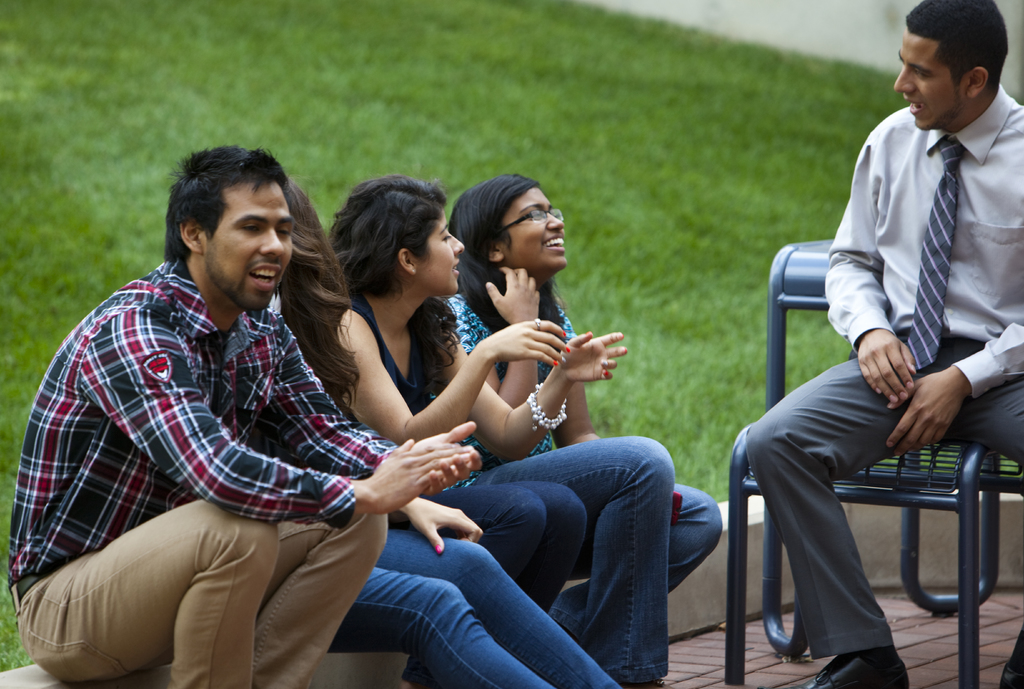Human_hand: (360, 438, 473, 518), (884, 368, 970, 461), (546, 331, 635, 404), (410, 418, 485, 495), (856, 328, 920, 408), (408, 497, 488, 557), (479, 319, 573, 368), (484, 263, 543, 329)
